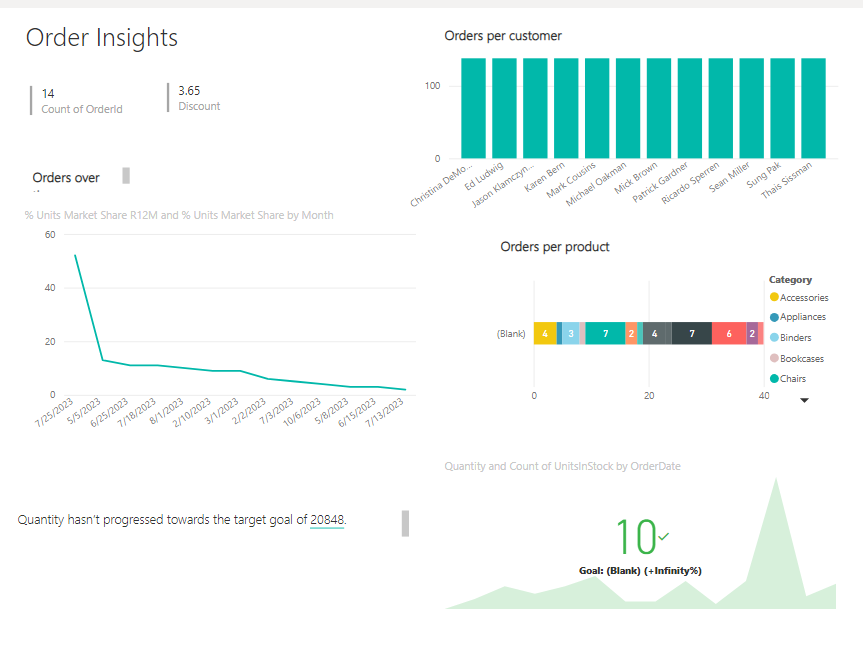

The page's visual inventory and layout, read from the dashboard file:
{"tool":"powerbi","page":{"name":"Orders","canvas":[960,720],"ordinal":1},"visuals":[{"type":"textbox","box":[24.6,7.2,436.4,48.4],"z":0},{"type":"multiRowCard","fields":{"Values":["Orders (2).OrderId"]},"box":[28.9,81.6,125.4,66.8],"z":1000},{"type":"lineChart","title":"% Units Market Share R12M and % Units Market Share by Month","fields":{"Category":["Orders (2).OrderDate"],"Y":["Order Details (2).Quantity"]},"box":[23.6,221.6,445.4,259.8],"z":2000},{"type":"barChart","fields":{"Category":["Orders (2).OrderId"],"Series":["Products (2).Category"],"Y":["Products (2).Category"]},"box":[539.7,290.3,396.7,159.2],"z":3000},{"type":"clusteredColumnChart","fields":{"Category":["Customers (2).Name"],"Y":["Order Details (2).Quantity"]},"box":[449.7,31.9,487.7,201.9],"z":4000},{"type":"multiRowCard","fields":{"Values":["Order Details (2).Discount"]},"box":[180.9,77.4,123.1,75.3],"z":5000},{"type":"textbox","box":[490.3,14.8,469,32.9],"z":6000},{"type":"textbox","box":[552.1,249.4,358.1,42.1],"z":7000},{"type":"textbox","box":[32.7,171.8,117.8,37.1],"z":8000},{"type":"kpi","fields":{"TrendLine":["Orders (2).OrderDate"],"Indicator":["Order Details (2).Quantity"],"Goal":["Products (2).UnitsInStock"]},"box":[490.3,500.5,445.4,172.8],"z":9000},{"type":"textbox","box":[16,553.5,444.7,50.9],"z":10000}]}

Visuals, with their boxes in screenshot pixels (x1, y1, x2, y2), scaled from the page's 960x720 canvas onto the 863x656 screenshot:
textbox: (22,7,414,51)
multiRowCard - Orders (2).OrderId: (26,74,139,135)
"% Units Market Share R12M and % Units Market Share by Month" lineChart: (21,202,422,439)
barChart - Orders (2).OrderId x Products (2).Category: (485,264,842,410)
clusteredColumnChart - Customers (2).Name x Order Details (2).Quantity: (404,29,843,213)
multiRowCard - Order Details (2).Discount: (163,71,273,139)
textbox: (441,13,862,43)
textbox: (496,227,818,266)
textbox: (29,157,135,190)
kpi - Orders (2).OrderDate x Order Details (2).Quantity: (441,456,841,613)
textbox: (14,504,414,551)
